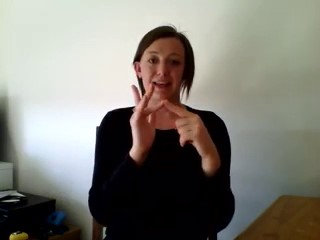O: (126, 80, 217, 161)
